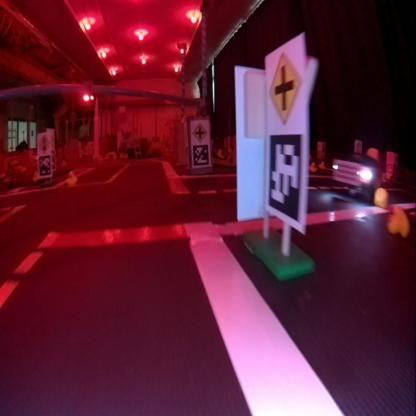Duckie: (386, 207, 408, 235), (373, 188, 389, 206), (65, 170, 77, 184)
Duckiebot: (332, 154, 376, 198)
Intersection sign: (264, 43, 304, 129), (191, 120, 206, 140)
QR code: (265, 134, 306, 230), (192, 145, 209, 167), (38, 156, 50, 177)
Signal sign: (36, 132, 50, 154)
Traffic light: (80, 81, 94, 103)
